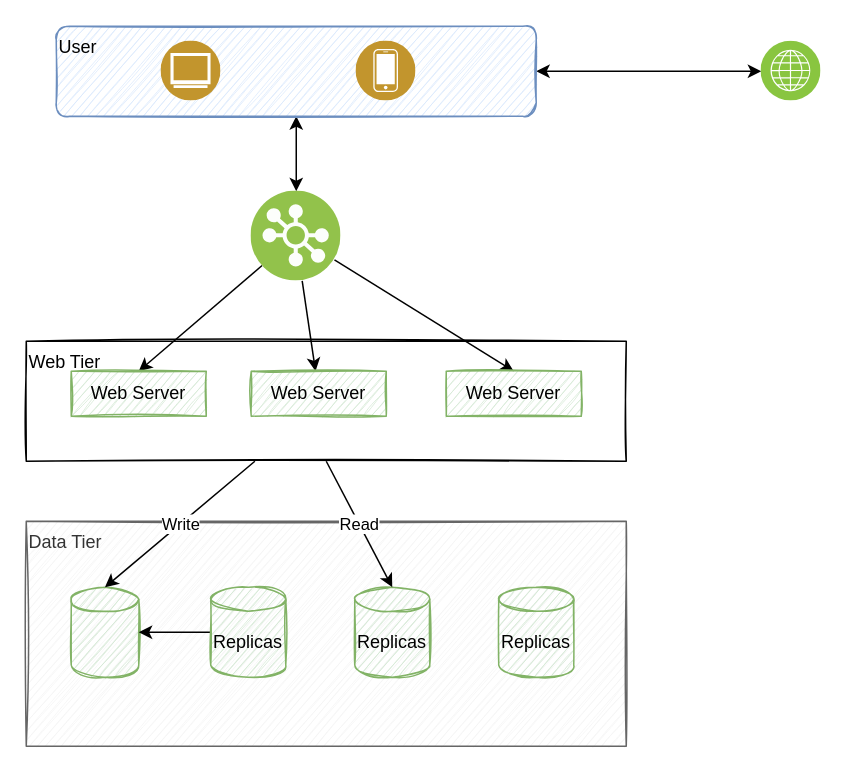
The diagram is 848 pixels wide and 773 high, and some of its shapes have lost their labels. The shapes that lost their labels are listed below. From the top down, each one's centre as x and y in pixels, then its label:
(790,70): DNS
(295,235): Load Balancer
(104,631): Master
